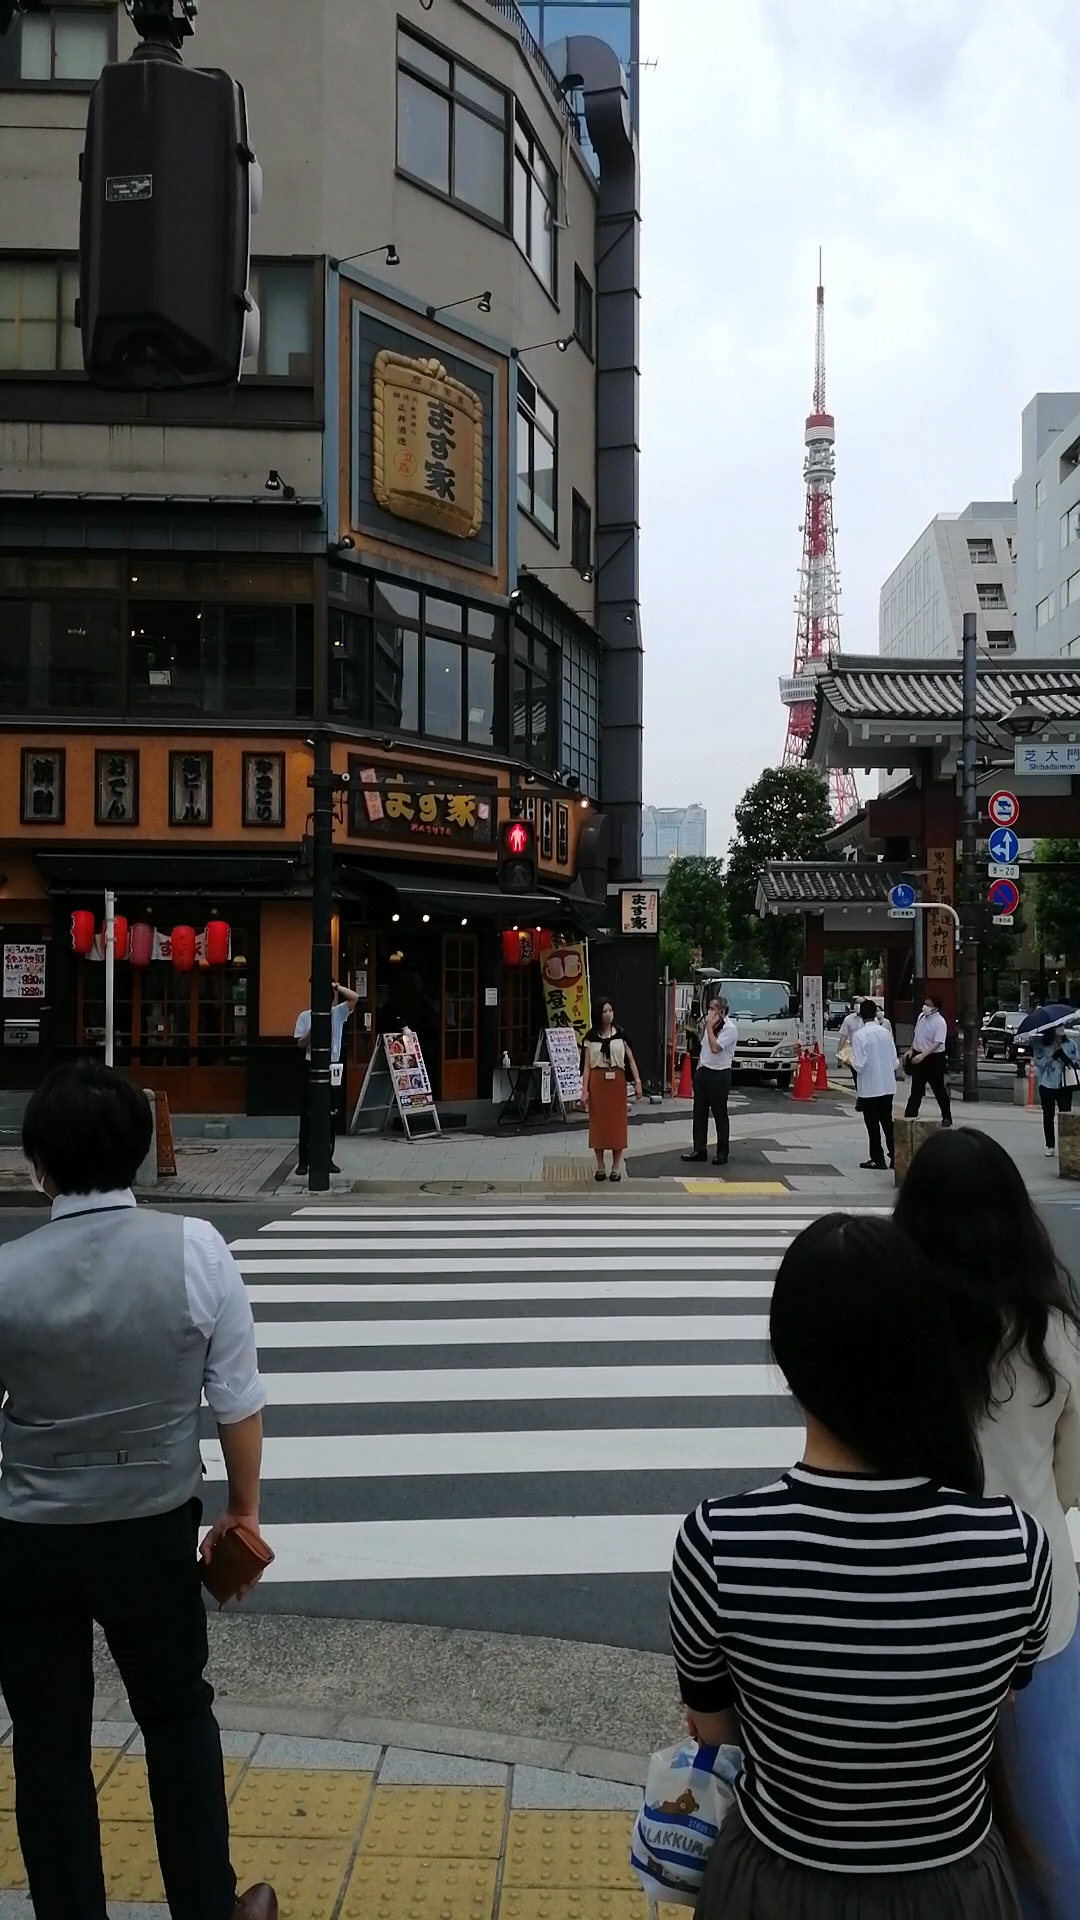red: (498, 820, 538, 891)
